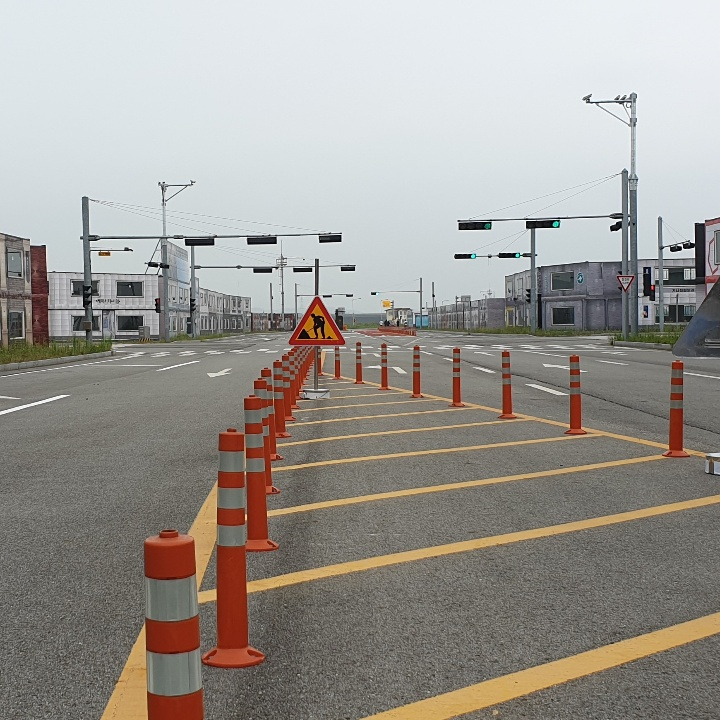const: (292, 305, 337, 342)
